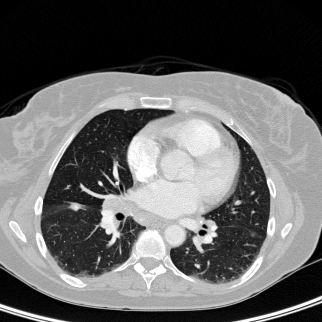nodule: (70, 202, 80, 212)
